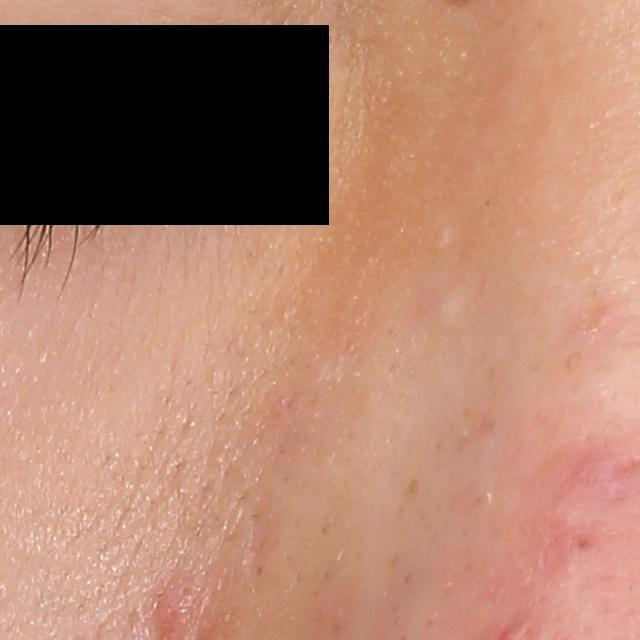hypertrophic_scar: (433, 274, 474, 337)
